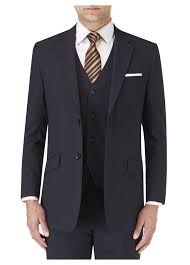F_M_suit jacket: (20, 22, 172, 234)
F_tie: (81, 28, 103, 82)
